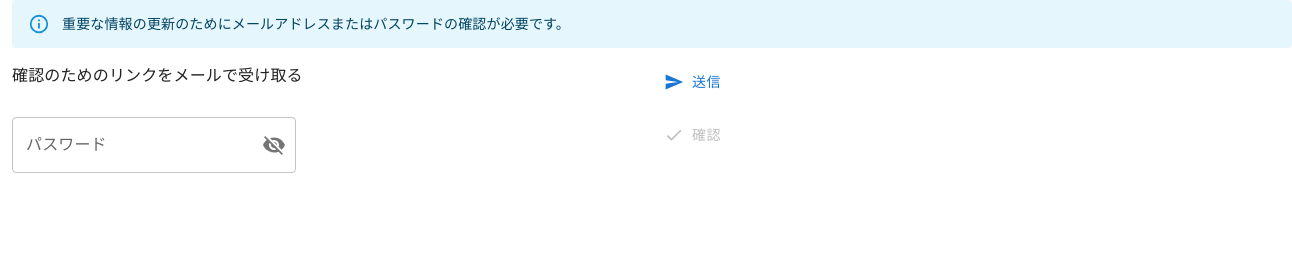
ReauthenticationPanel: Email › shows button send for valid email.
The width and height of the screenshot is (1292, 254).
Check: the text "ログイン用のメールアドレス宛に確認のためのメールを送信しました。" is not shown
Check: the icon with test id "VisibilityOffIcon" is shown, box [262, 132, 286, 156]
Click the button with aria-label "sendReauthLinkEmail" at (694, 82), box [660, 64, 729, 100]
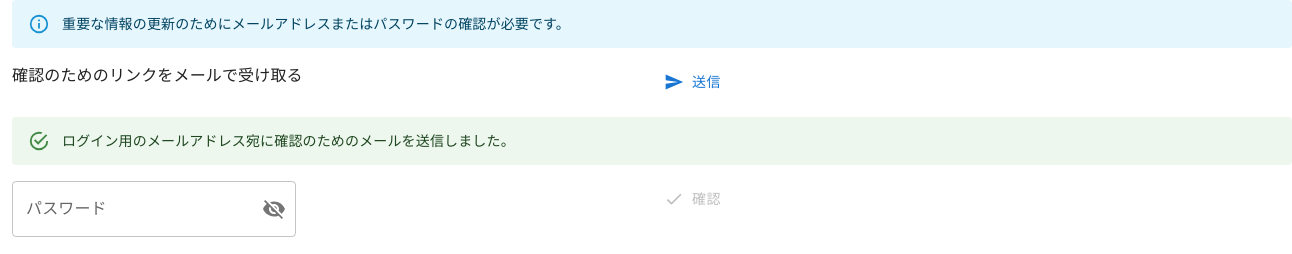
Check: the text "ログイン用のメールアドレス宛に確認のためのメールを送信しました。" is shown, box [62, 132, 515, 148]
Click the button with test id "VisibilityOffIcon" at (274, 208), box [254, 188, 294, 228]
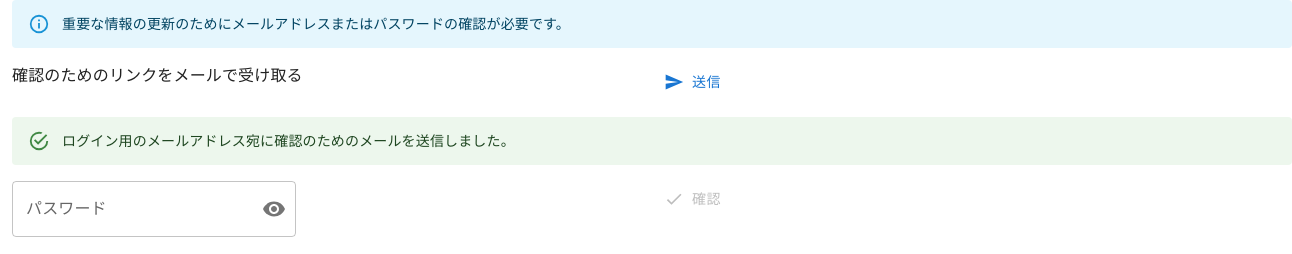
Check: the icon with test id "VisibilityOffIcon" is gone
Check: the icon with test id "VisibilityIcon" is shown, box [262, 196, 286, 220]
